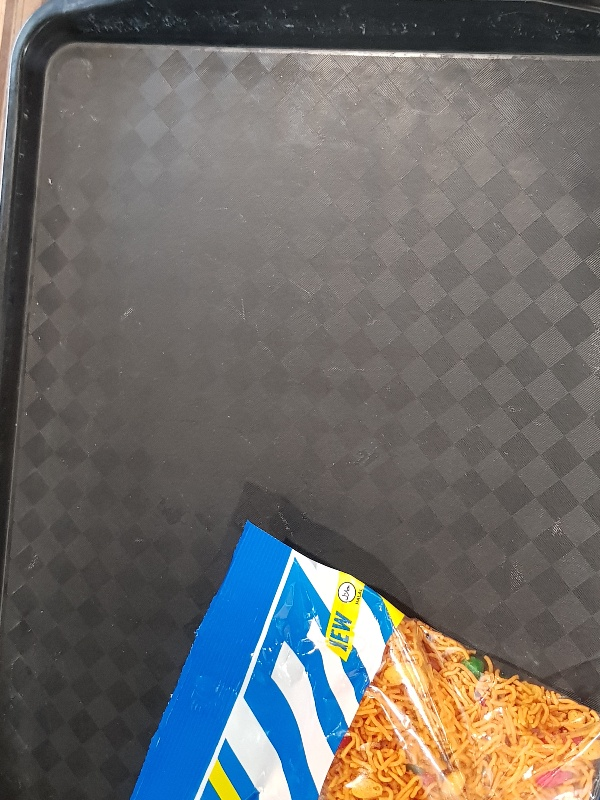Star Tidbits Mixer: (128, 517, 600, 799)
